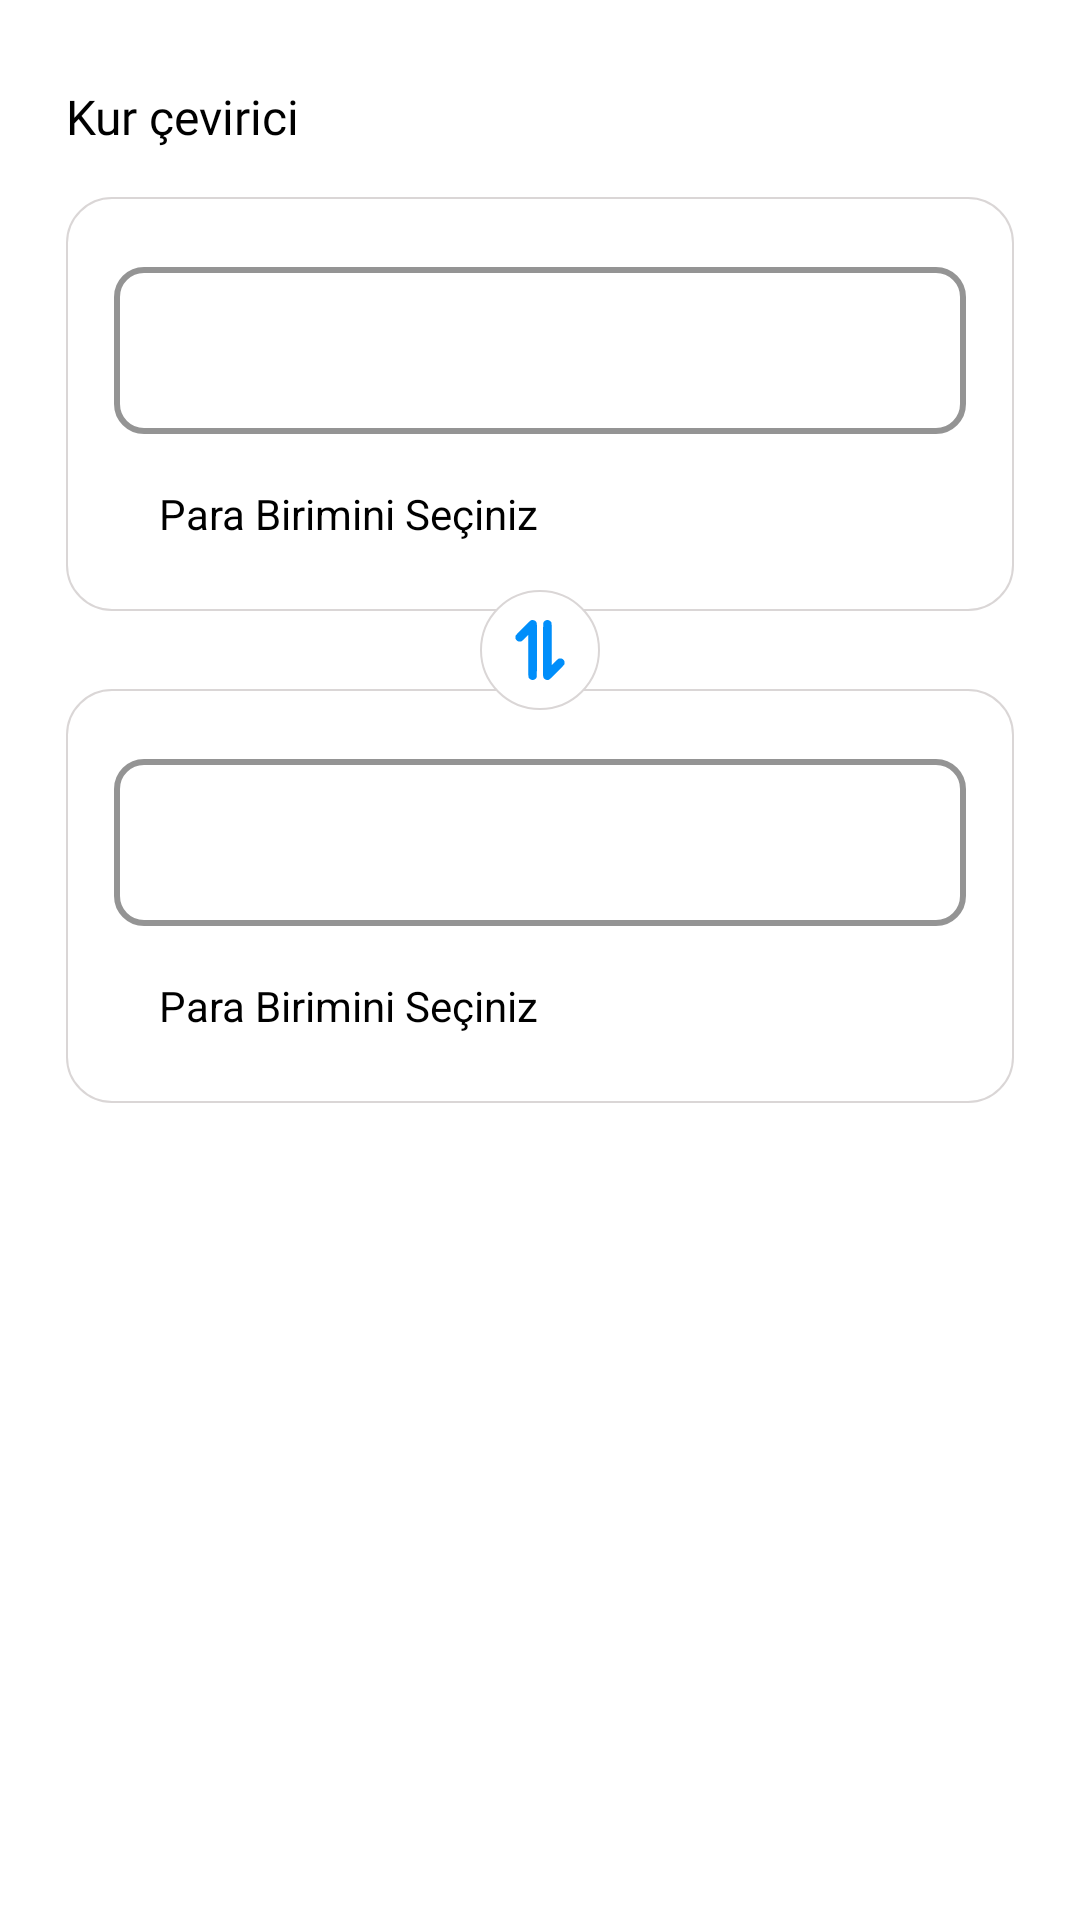

Icon click points for this 1080px x 1920px phone screenshot, format point (x, y):
up down: point (540, 650)
